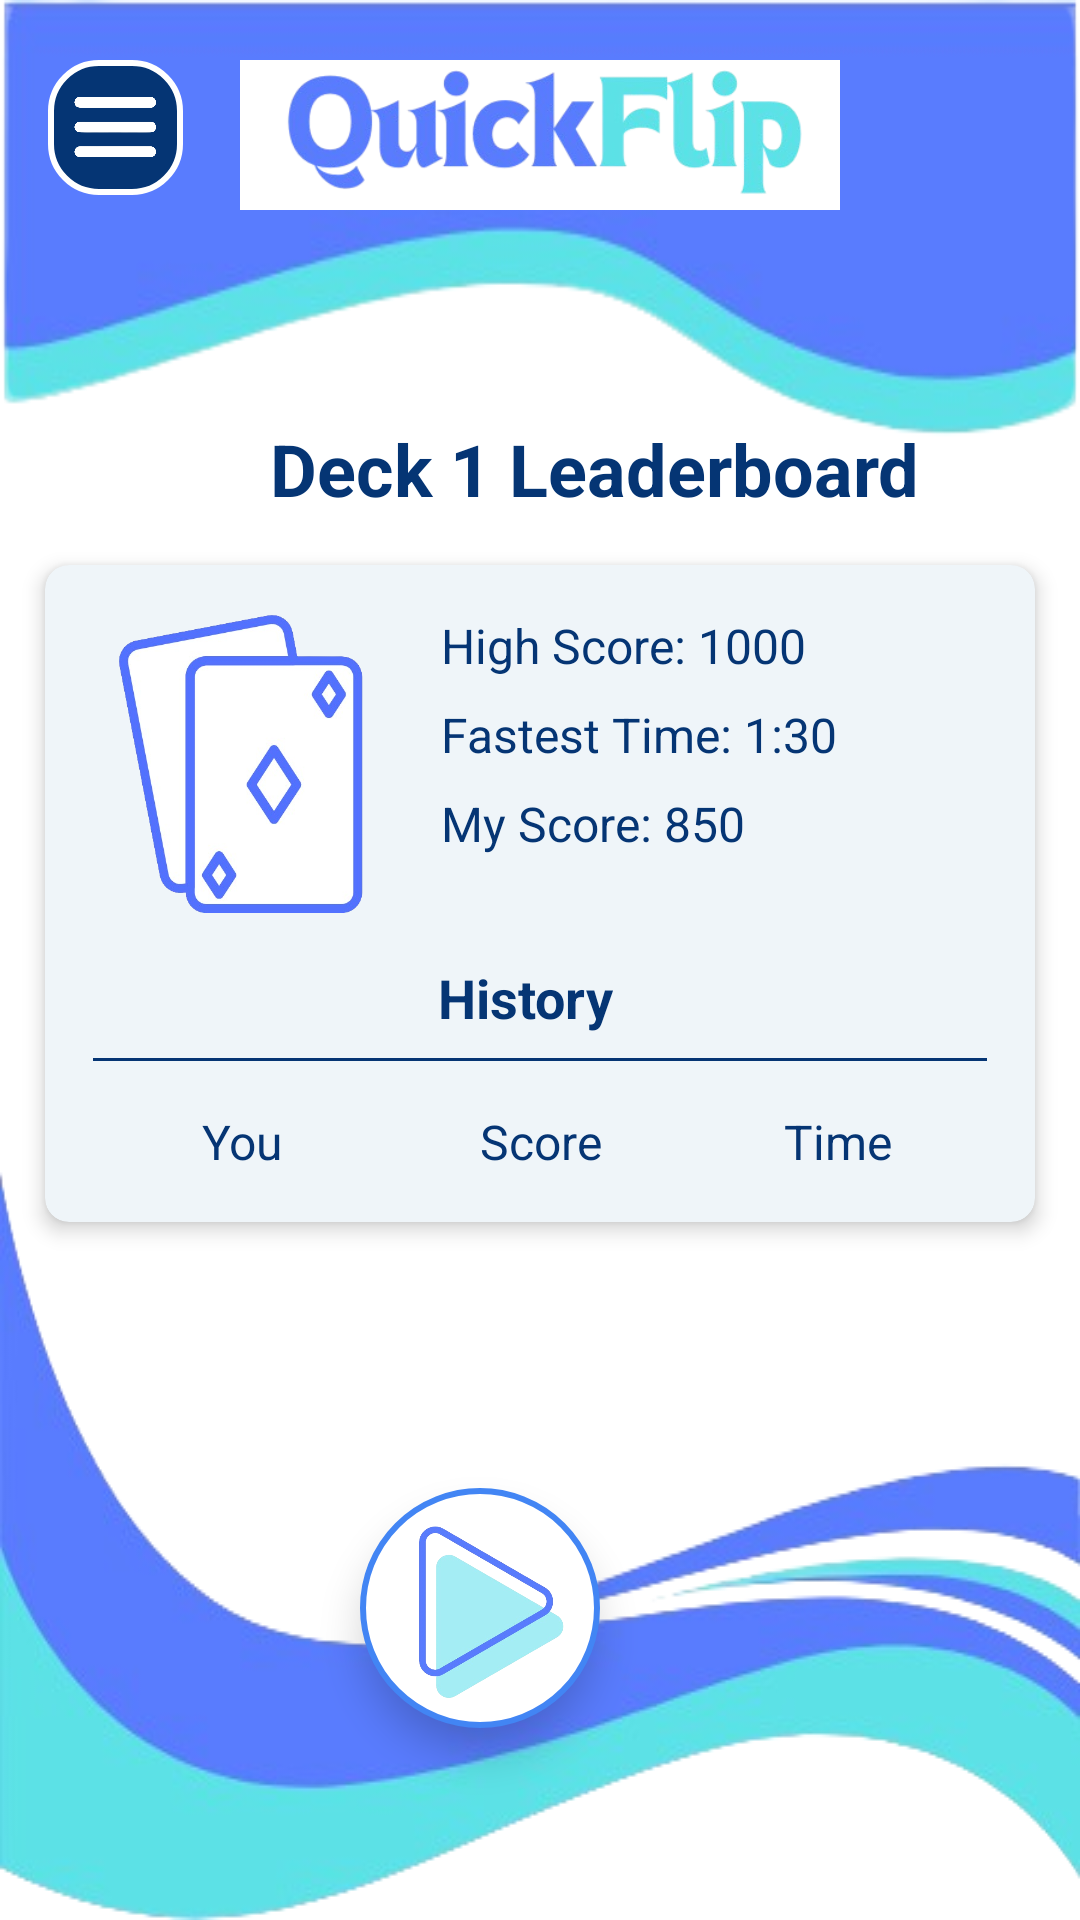

Icons on this 1080 × 1920 Android screen, each with the point to tap as point (x, y):
Drawer: point (115, 127)
quickflipdeckicon: point (241, 764)
quickflipplayicon: point (480, 1608)
